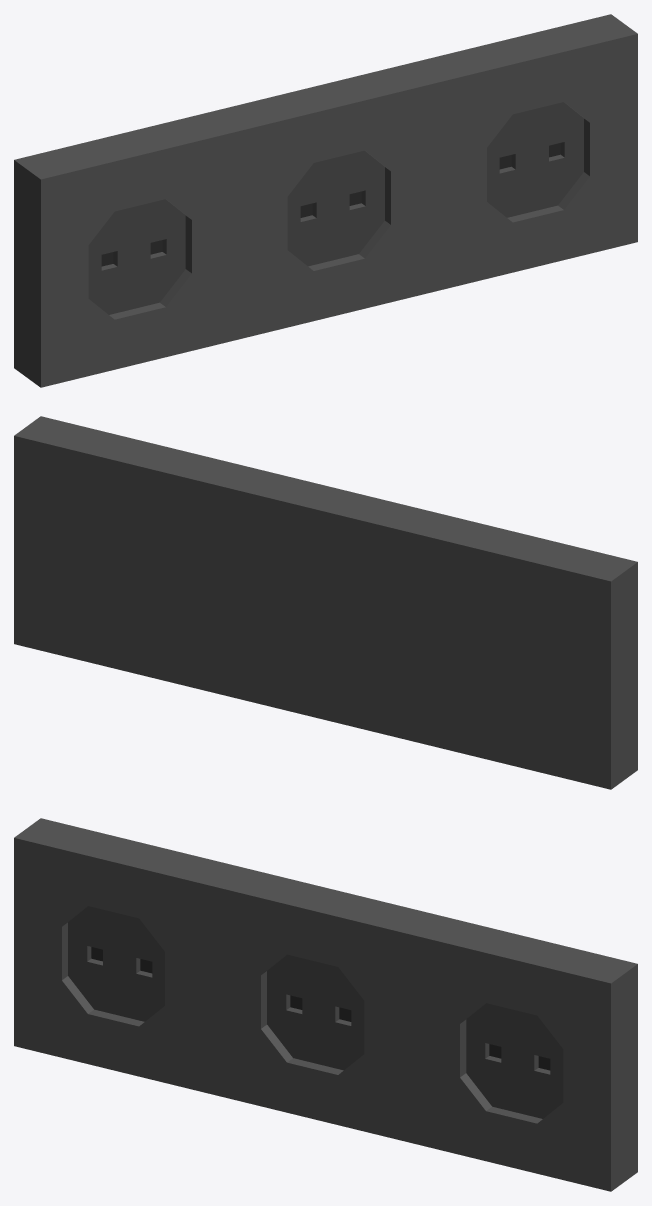
Rendered from Socket3_C2.fbx.
3 views of the same model, one above another, from view 1: azimuth 30°, elevation 25°; view 2: azimuth 150°, elevation 25°; view 3: azimuth 330°, elevation 25° (orthographic).
Parts seen in each view (by area): view 1: Socket3_C2; view 2: Socket3_C2; view 3: Socket3_C2.
Boxes of the visible parts, x1,y1,x2,y2 form: Socket3_C2: (14,14,637,387); Socket3_C2: (14,416,637,789); Socket3_C2: (14,818,637,1191).
Size of the model in its own units: 25.33 by 8.44 by 1.97.
